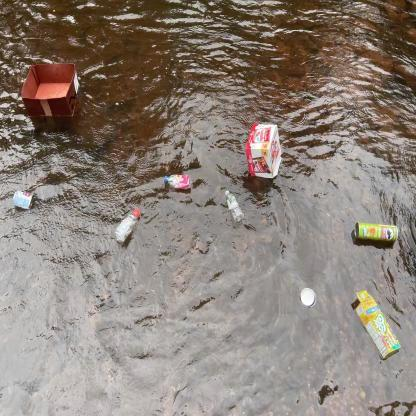Metal: (349, 222, 400, 246), (11, 188, 36, 213)
Plastic: (112, 206, 145, 248), (223, 186, 245, 228), (162, 172, 192, 192)
Trash: (298, 286, 318, 312)
